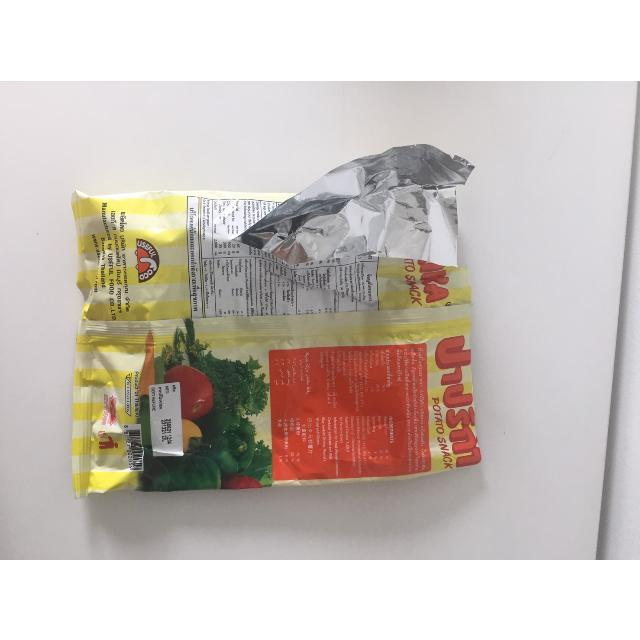Paquete de plastico: (70, 140, 486, 501)
